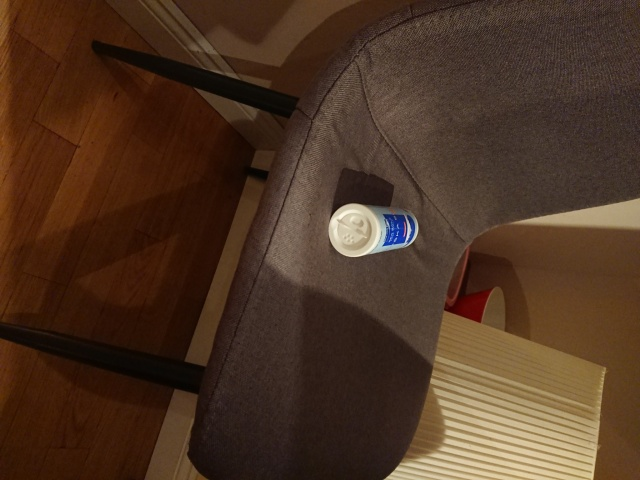Solana Pag Fine Sea Salt 250g: (325, 201, 423, 260)
